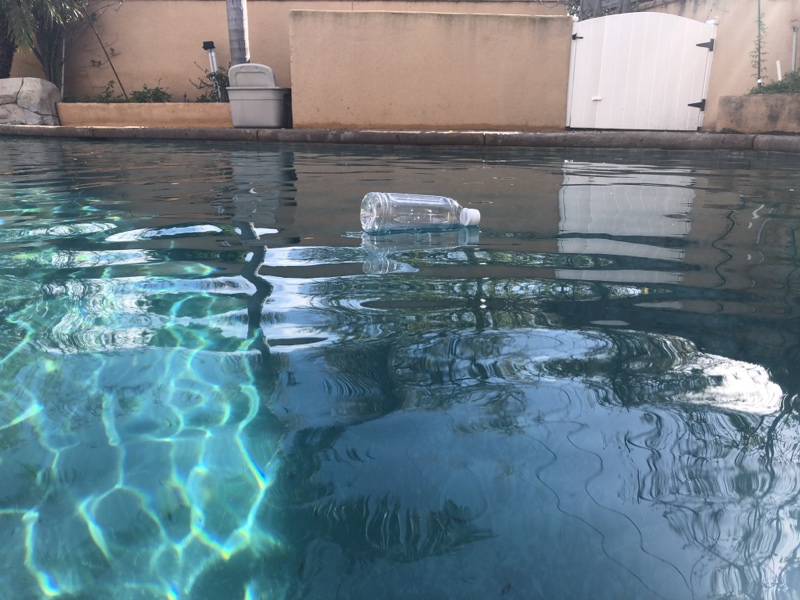Plastic Bottle: (360, 189, 482, 239)
